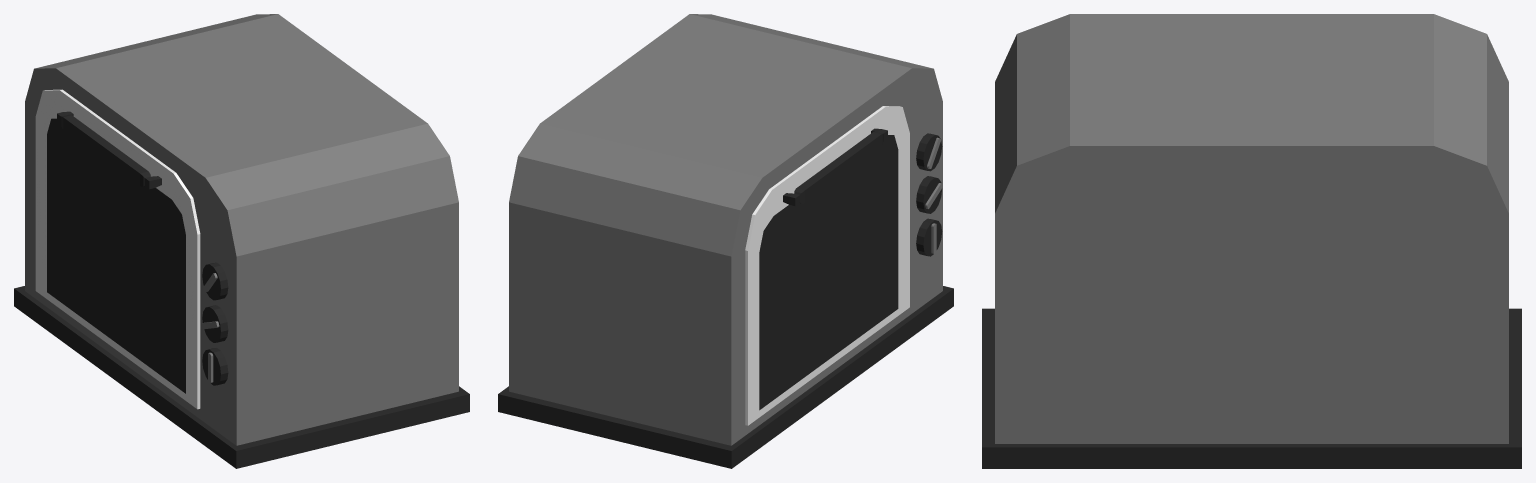
Rendered from Oven_2.fbx.
The picture shows the model from 3 angles, left to right: view 1: azimuth 30°, elevation 25°; view 2: azimuth 150°, elevation 25°; view 3: azimuth 270°, elevation 25°; orthographic projection. The views are drawn at different scales.
Parts seen in each view (by area): view 1: Oven_2, Oven_2 Door; view 2: Oven_2, Oven_2 Door; view 3: Oven_2.
Boxes of the visible parts, x1,y1,x2,y2 form: Oven_2: (14,14,469,468); Oven_2 Door: (35,89,200,409); Oven_2: (498,14,953,468); Oven_2 Door: (745,106,909,425); Oven_2: (982,14,1521,468).
Bounding box in the file's own units: 0.3617 × 0.3705 × 0.5669.
